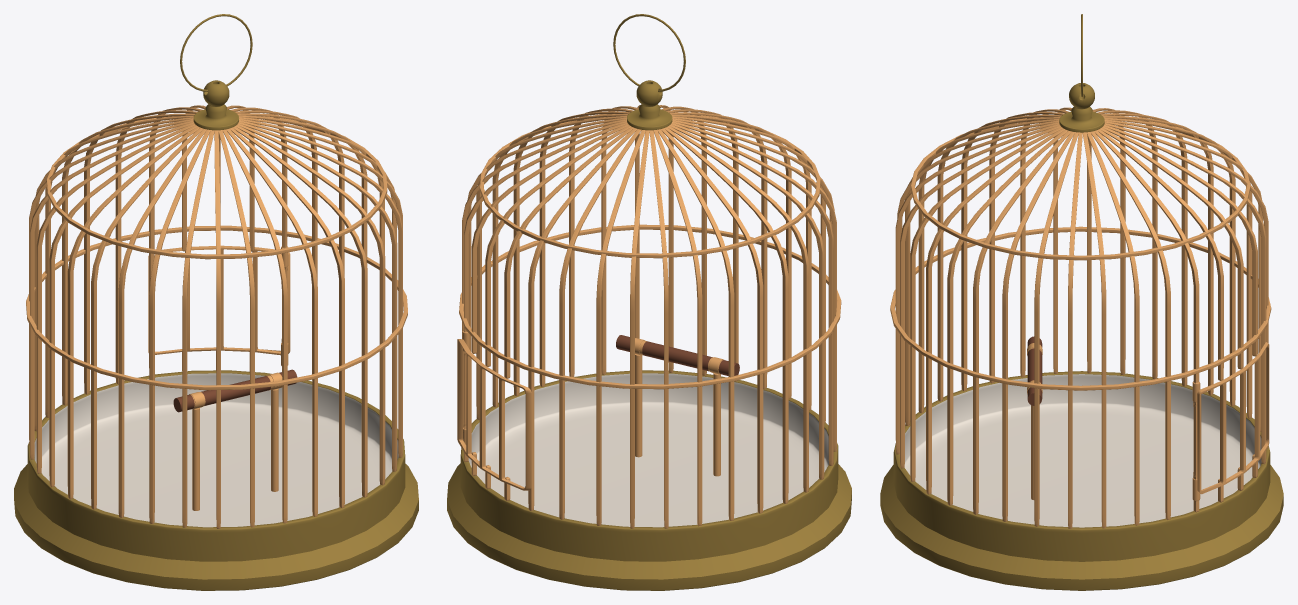
The model's file is cageMesh.fbx.
3 renders of one model, left to right at view 1: azimuth 30°, elevation 25°; view 2: azimuth 150°, elevation 25°; view 3: azimuth 270°, elevation 25°, orthographic.
Visible parts, largest first — view 1: Birdcage, door; view 2: Birdcage, door; view 3: Birdcage, door.
Boxes of the visible parts, left/top/right/bottom form: Birdcage: left=14, top=14, right=418, bottom=590; door: left=148, top=245, right=290, bottom=355; Birdcage: left=447, top=14, right=851, bottom=590; door: left=457, top=339, right=531, bottom=490; Birdcage: left=880, top=14, right=1283, bottom=590; door: left=1197, top=342, right=1269, bottom=494.
Bounding box in the file's own units: 376 × 502 × 376.
